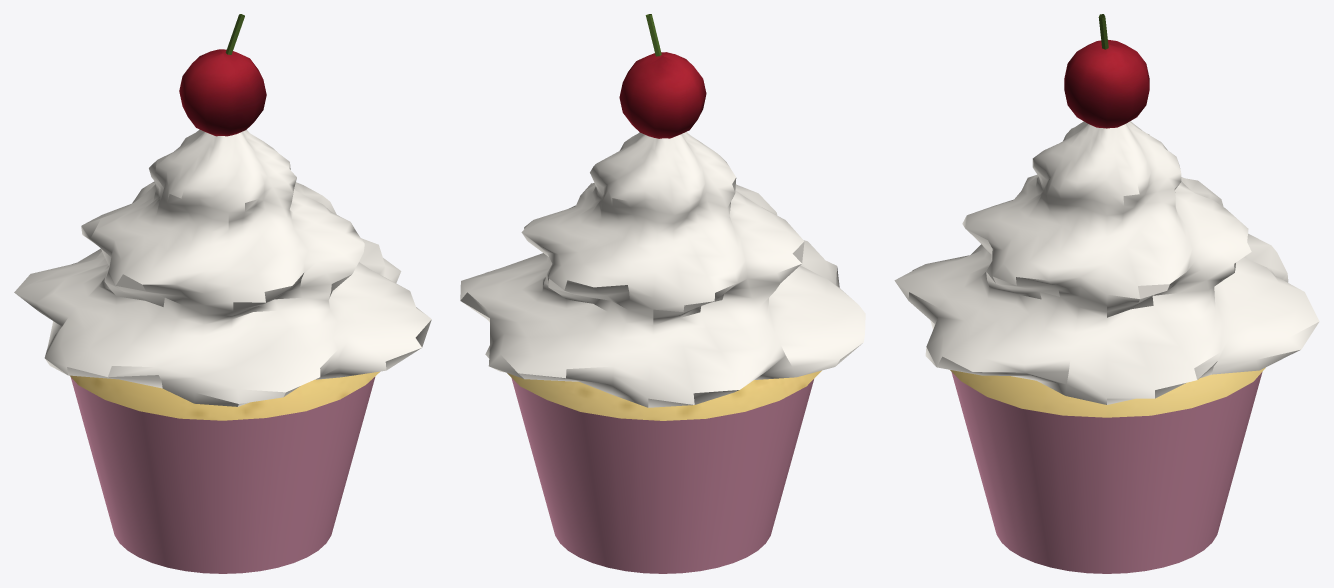
The model's file is bakery_cupcake_swirl.glb.
3 renders of one model, left to right at view 1: azimuth 30°, elevation 25°; view 2: azimuth 150°, elevation 25°; view 3: azimuth 270°, elevation 25°, orthographic. The views are drawn at different scales.
Parts seen in each view (by area): view 1: bakery_cupcake_swirl; view 2: bakery_cupcake_swirl; view 3: bakery_cupcake_swirl.
Part boxes in pixels (x1,y1,x2,y2): bakery_cupcake_swirl: (14,14,431,573); bakery_cupcake_swirl: (460,14,865,573); bakery_cupcake_swirl: (894,14,1319,573).
Size of the model in its own units: 0.0848 by 0.1152 by 0.0854.
5 materials, 2 textured.
